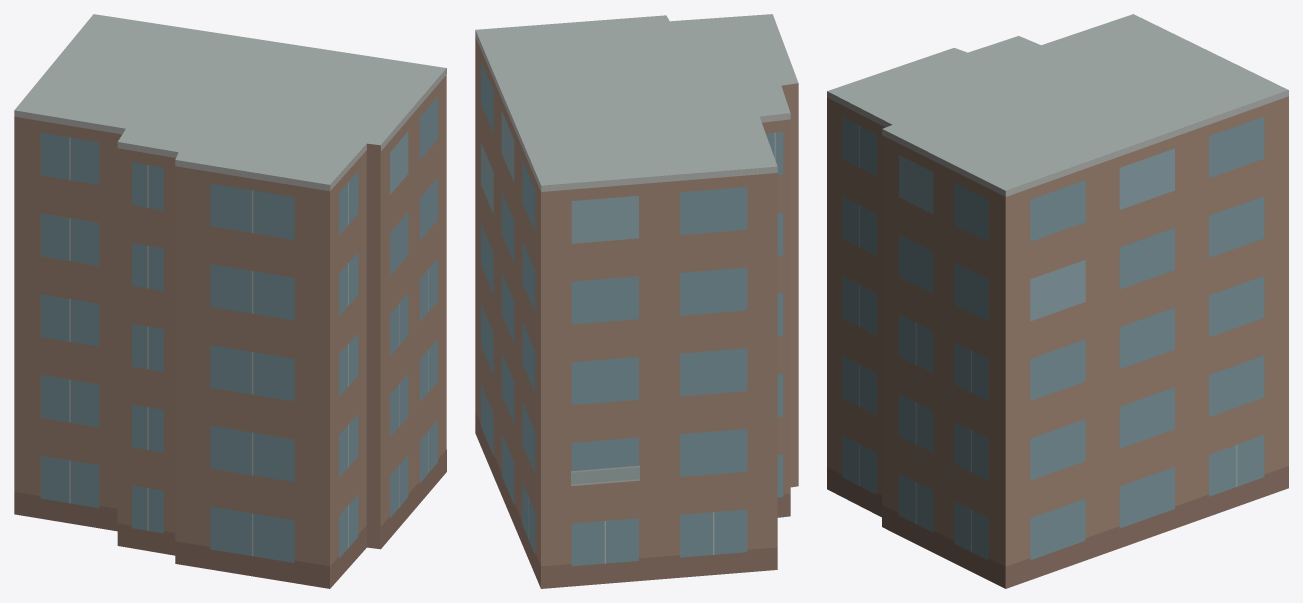
Rendered from survey-upis-32726397.glb.
The picture shows the model from 3 angles, left to right: view 1: azimuth 30°, elevation 25°; view 2: azimuth 150°, elevation 25°; view 3: azimuth 270°, elevation 25°; orthographic projection.
Visible parts, largest first — view 1: survey-upis-32726397.tmp; view 2: survey-upis-32726397.tmp; view 3: survey-upis-32726397.tmp.
Boxes of the visible parts, <box> form: survey-upis-32726397.tmp: <box>14,14,446,588</box>; survey-upis-32726397.tmp: <box>475,14,798,588</box>; survey-upis-32726397.tmp: <box>827,14,1288,588</box>.
Size of the model in its own units: 14.87 by 15.6 by 16.41.
